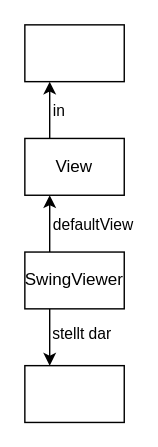
Some shapes in this 158 by 447 pixel diagram are drawn without their labels. Each missing label, with the centre of its shape:
"Graph" belongs at (x=73, y=393).
"JPanel" belongs at (x=73, y=52).
